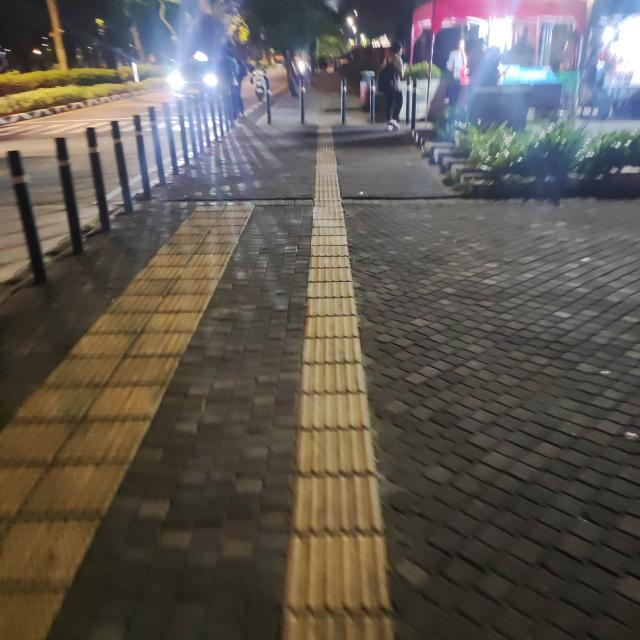lurus: (296, 203, 392, 640)
